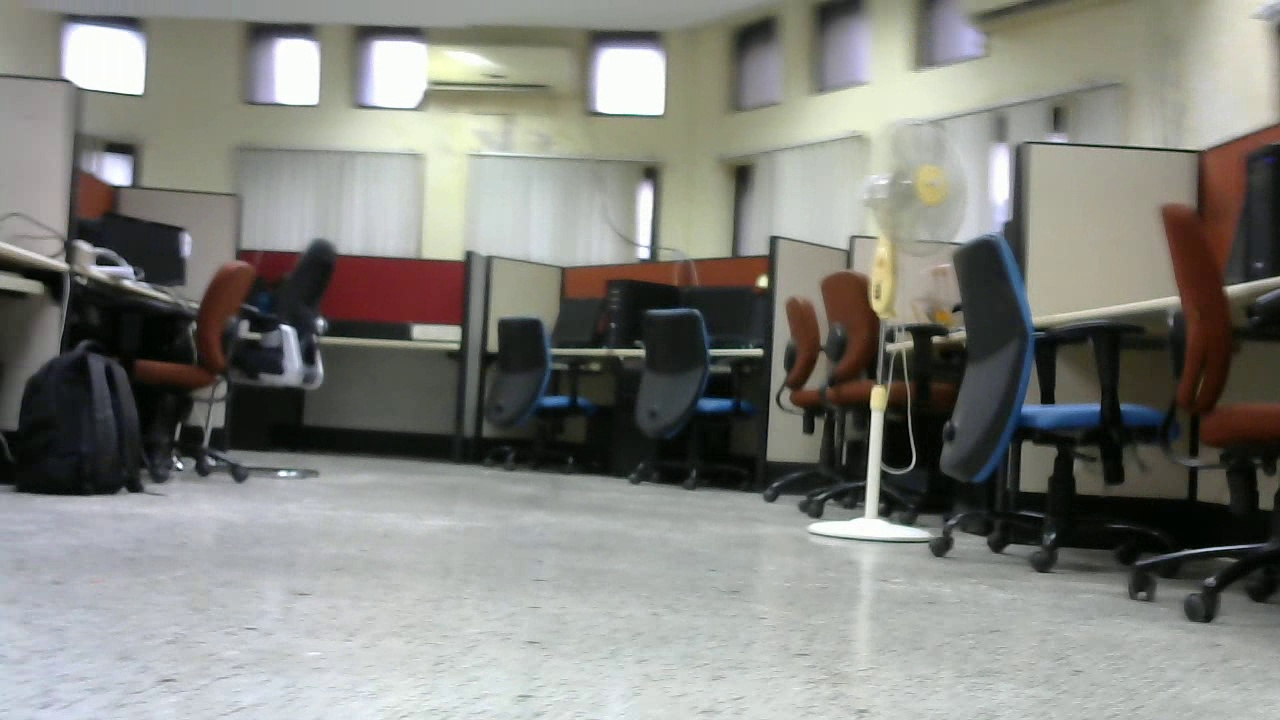chair: (915, 235, 1167, 576), (1118, 198, 1280, 623), (750, 263, 933, 520), (200, 237, 343, 479), (101, 260, 253, 475), (617, 308, 772, 483), (463, 311, 617, 475)
